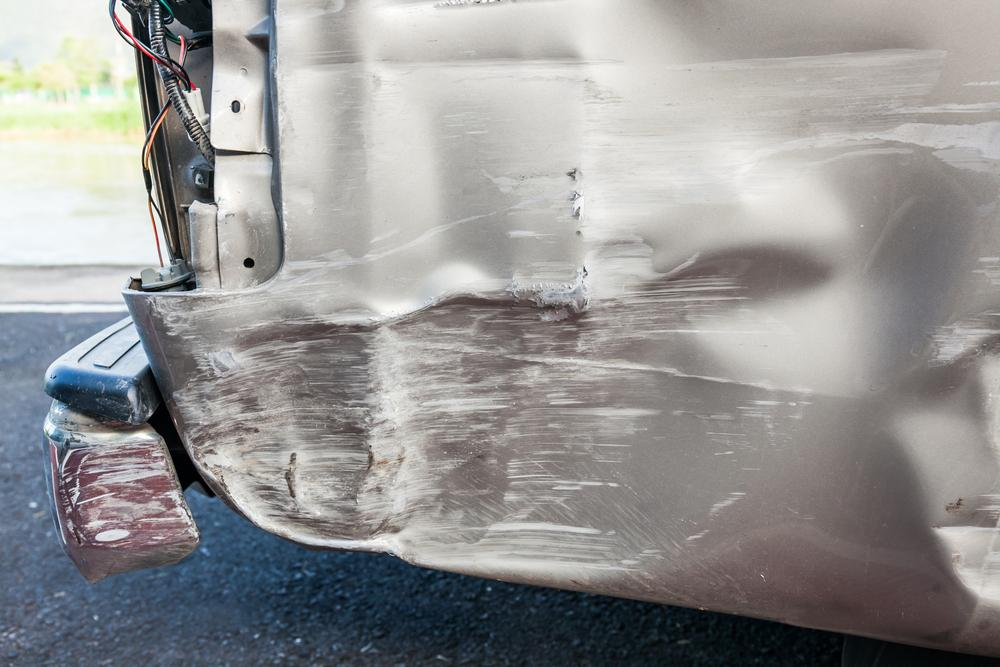dent: (149, 0, 1000, 617)
scratch: (914, 72, 1000, 288), (56, 444, 194, 544)
